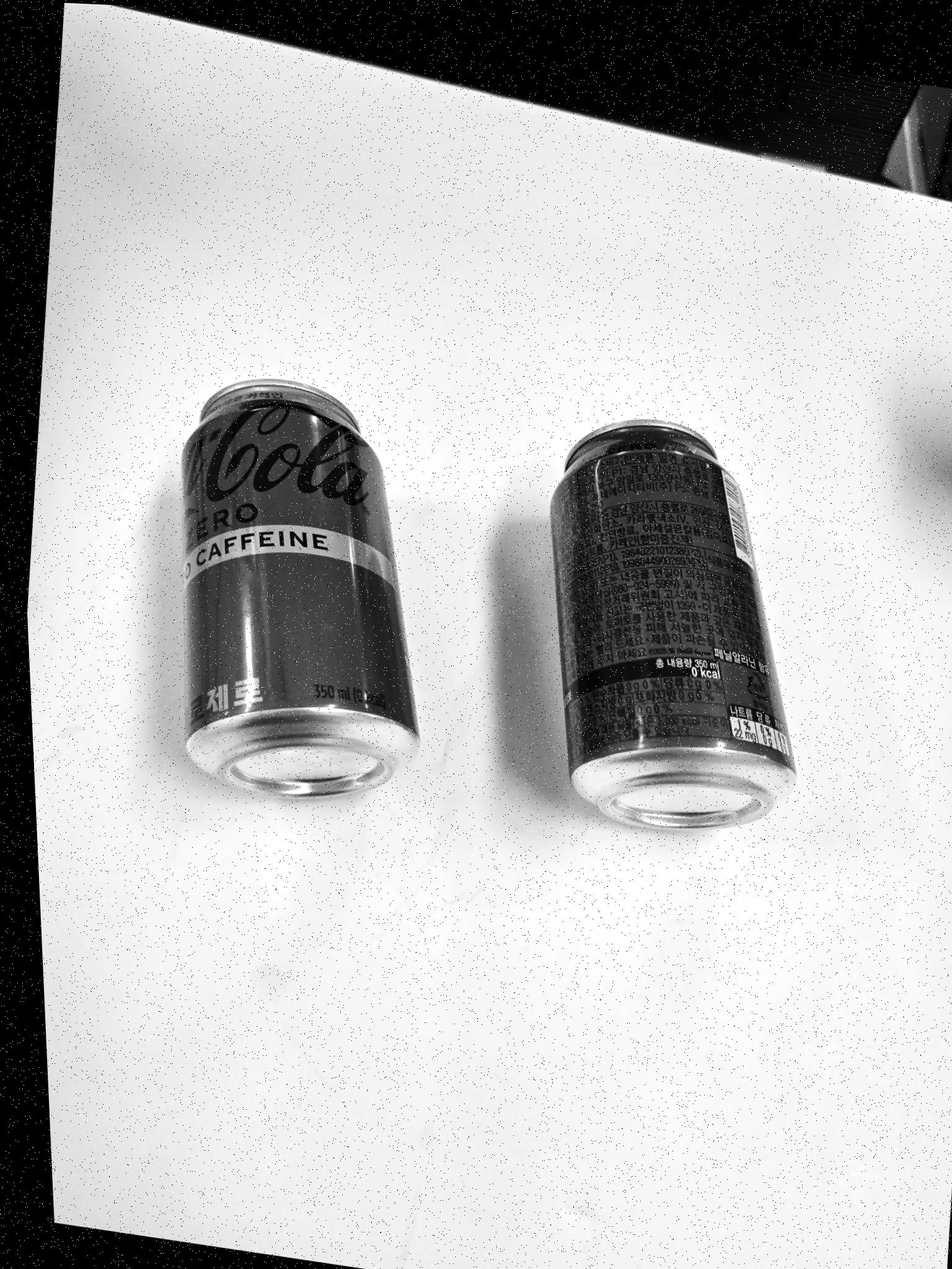can_coke_decaf: (181, 370, 422, 796)
can_coke_zero: (555, 420, 791, 837)
